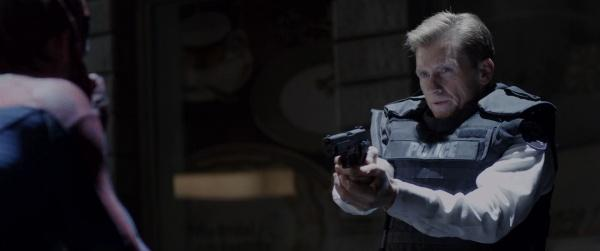Gun: (323, 126, 371, 170)
